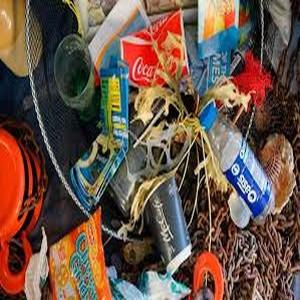Plastic: (202, 102, 278, 220)
